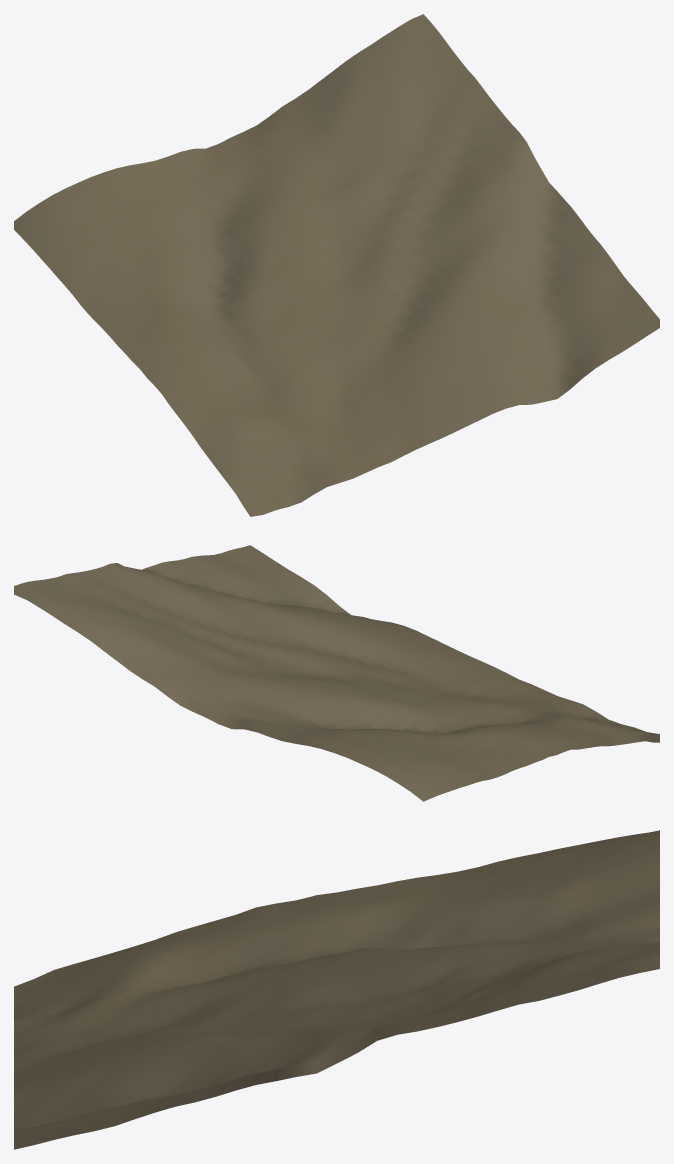
The model's file is far_7_0_0_3.dae.
3 renders of one model, top to bottom at view 1: azimuth 30°, elevation 25°; view 2: azimuth 150°, elevation 25°; view 3: azimuth 270°, elevation 25°, orthographic. The views are drawn at different scales.
Parts seen in each view (by area): view 1: tile; view 2: tile; view 3: tile.
Boxes of the visible parts, left/top/right/bottom form: tile: left=14, top=14, right=659, bottom=516; tile: left=14, top=545, right=659, bottom=801; tile: left=14, top=830, right=659, bottom=1149.
Bounding box in the file's own units: 256 × 256 × 138.
